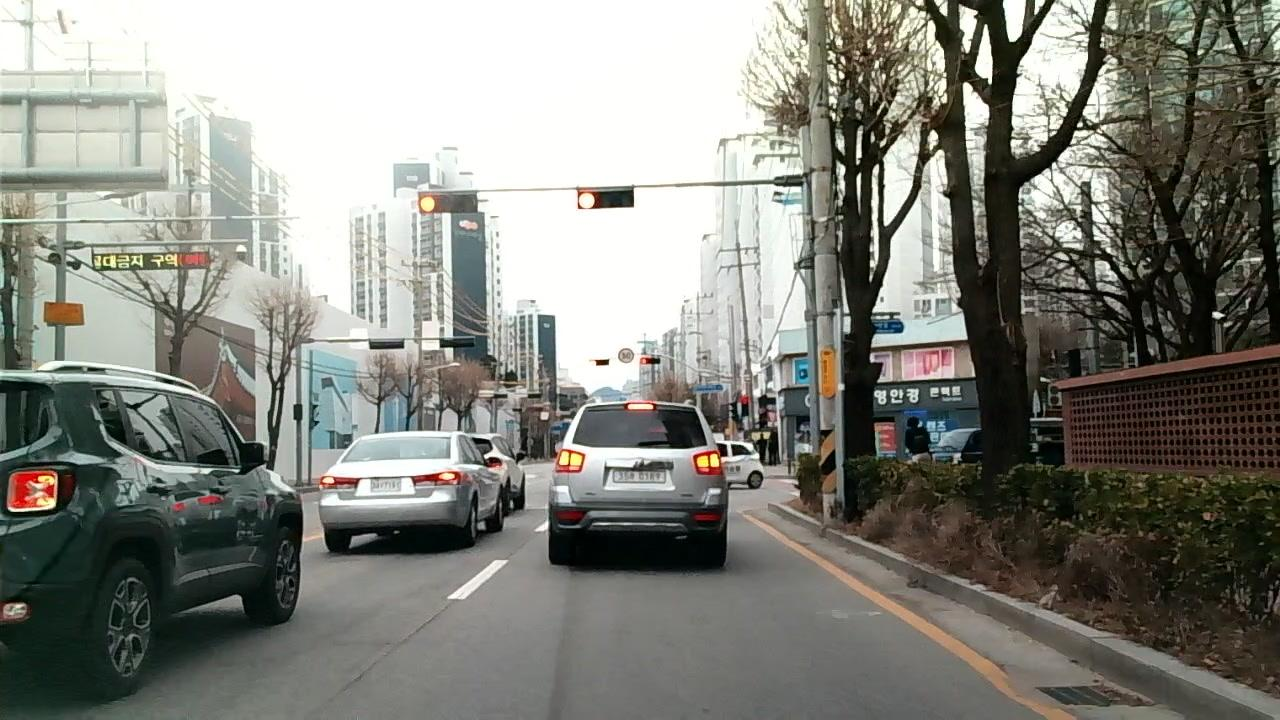vcrack: (328, 601, 456, 705)
